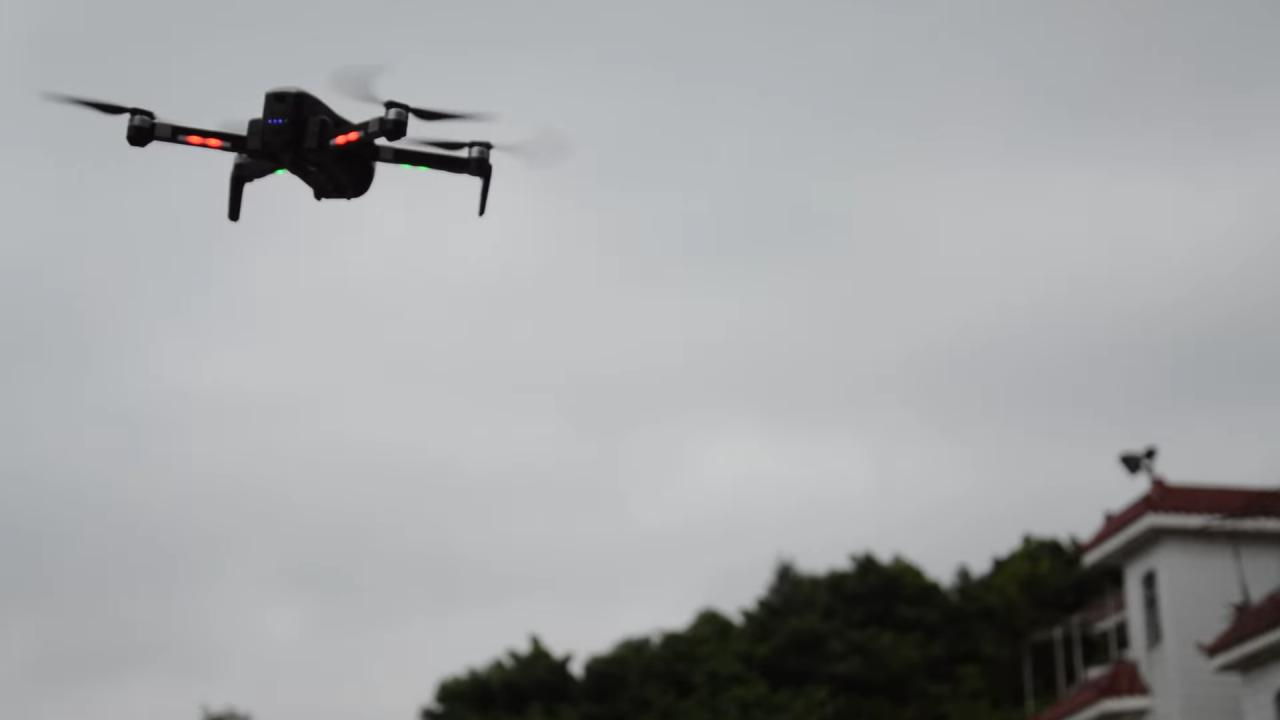Drone: (28, 50, 588, 234)
